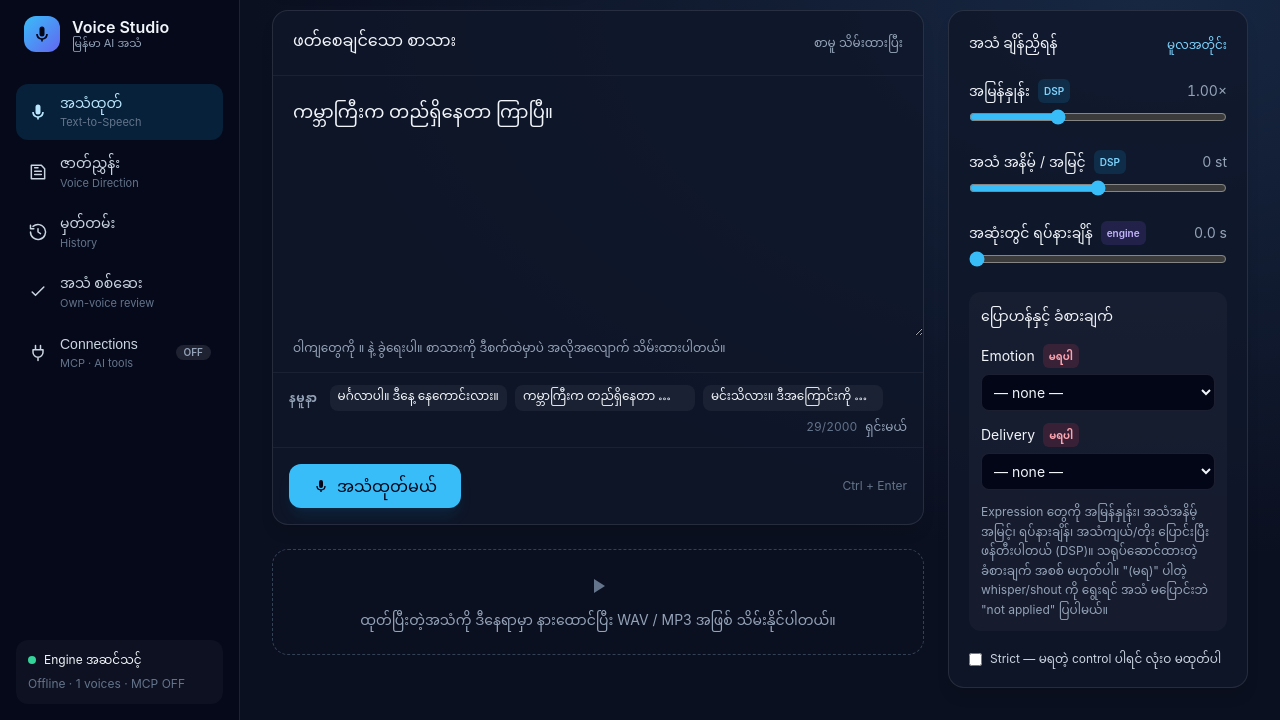
Test: strict-mode refusal is shown as an error
(page scrolled)
What coordinates should you click on to do the following:
click the button "အသံထုတ်မယ်"
I would click on:
 (375, 486)
Its box is [289,464,461,508].
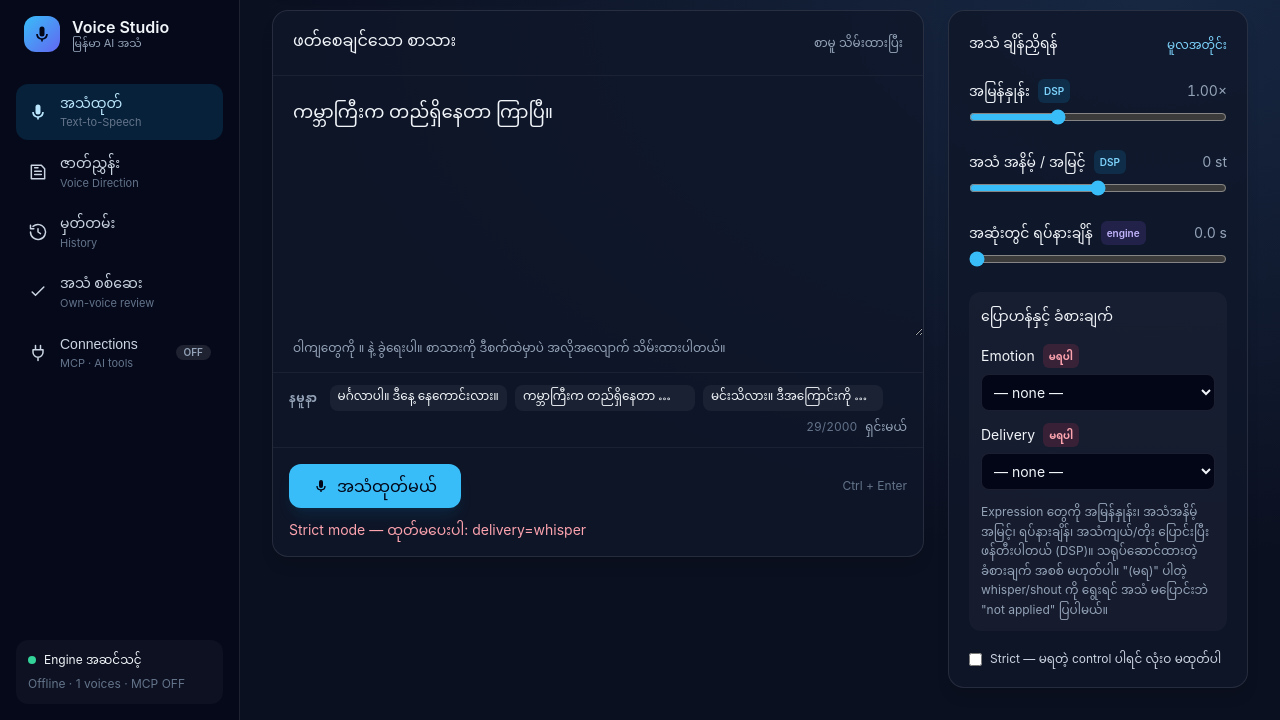
Expected: the text "Strict mode — ထုတ်မပေးပါ: delivery=whisper" is shown, [289,521,586,538]
